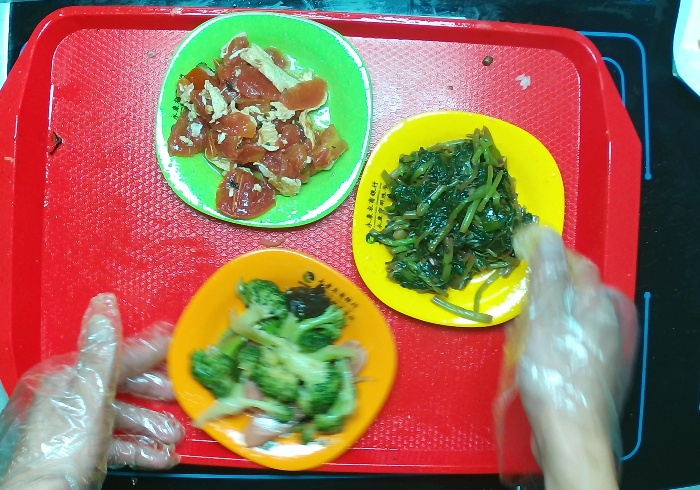YKMZ-Huang_Se_Fang_Die: (348, 103, 569, 330)
YKMZ-Ju_Se_Fang_Die: (162, 239, 406, 475)
YKMZ-Lv_Se_Fang_Die: (149, 6, 379, 232)
